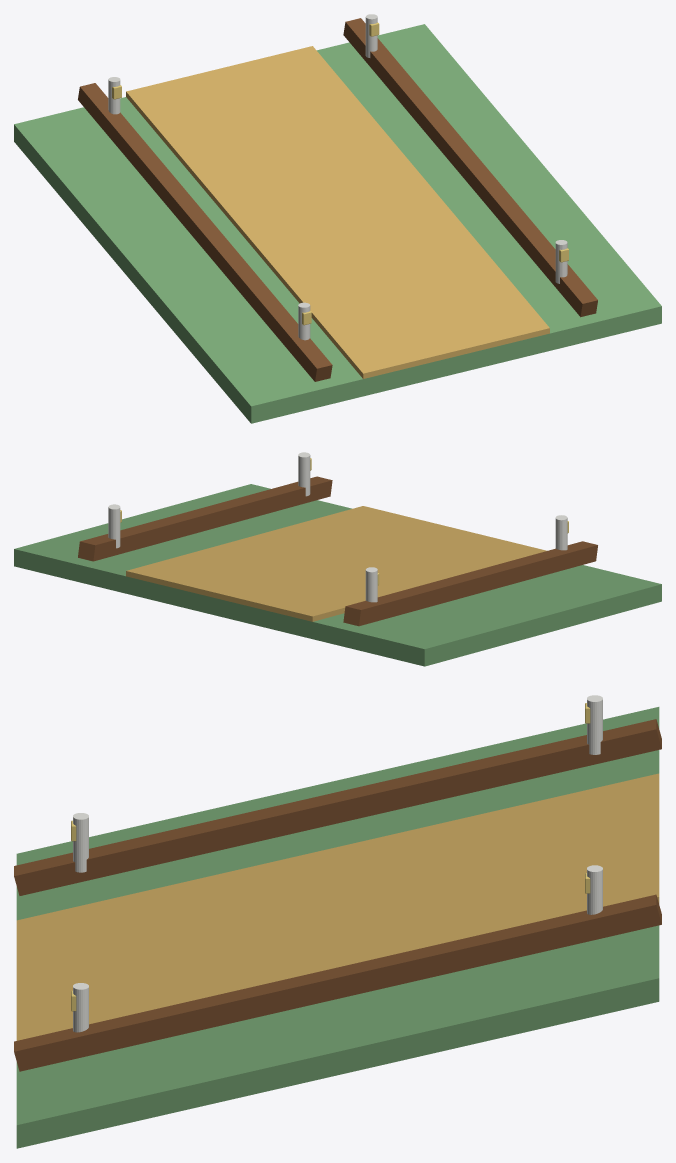
The model's file is ROAD_DIRT_SLOPE_1x1_UP_050.glb.
3 views of the same model, one above another, from view 1: azimuth 30°, elevation 25°; view 2: azimuth 150°, elevation 25°; view 3: azimuth 270°, elevation 25° (orthographic). The views are drawn at different scales.
Parts seen in each view (by area): view 1: ROAD_DIRT_SLOPE_1x1_UP_050_Visual; view 2: ROAD_DIRT_SLOPE_1x1_UP_050_Visual; view 3: ROAD_DIRT_SLOPE_1x1_UP_050_Visual.
Part boxes in pixels (x1,y1,x2,y2): ROAD_DIRT_SLOPE_1x1_UP_050_Visual: (14, 14, 661, 423); ROAD_DIRT_SLOPE_1x1_UP_050_Visual: (14, 452, 661, 666); ROAD_DIRT_SLOPE_1x1_UP_050_Visual: (14, 695, 661, 1148).
Size of what is drawn, in the model's own units: 1.98 by 0.78 by 2.
